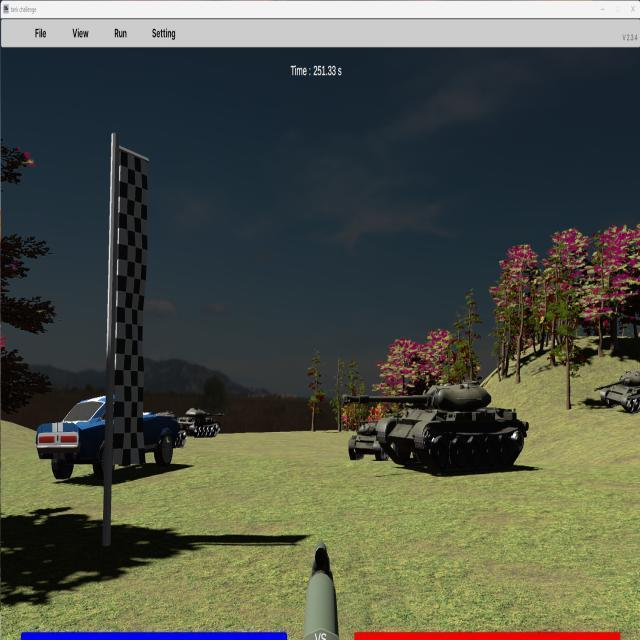Tank: (344, 382, 530, 473), (593, 369, 640, 414), (349, 420, 392, 462), (178, 407, 225, 438)
car: (36, 394, 181, 481)
